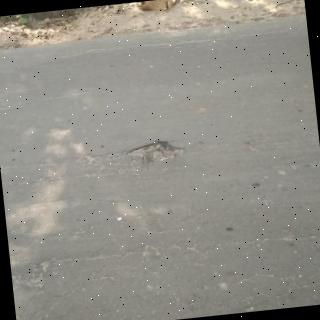pothole: (128, 140, 183, 164)
